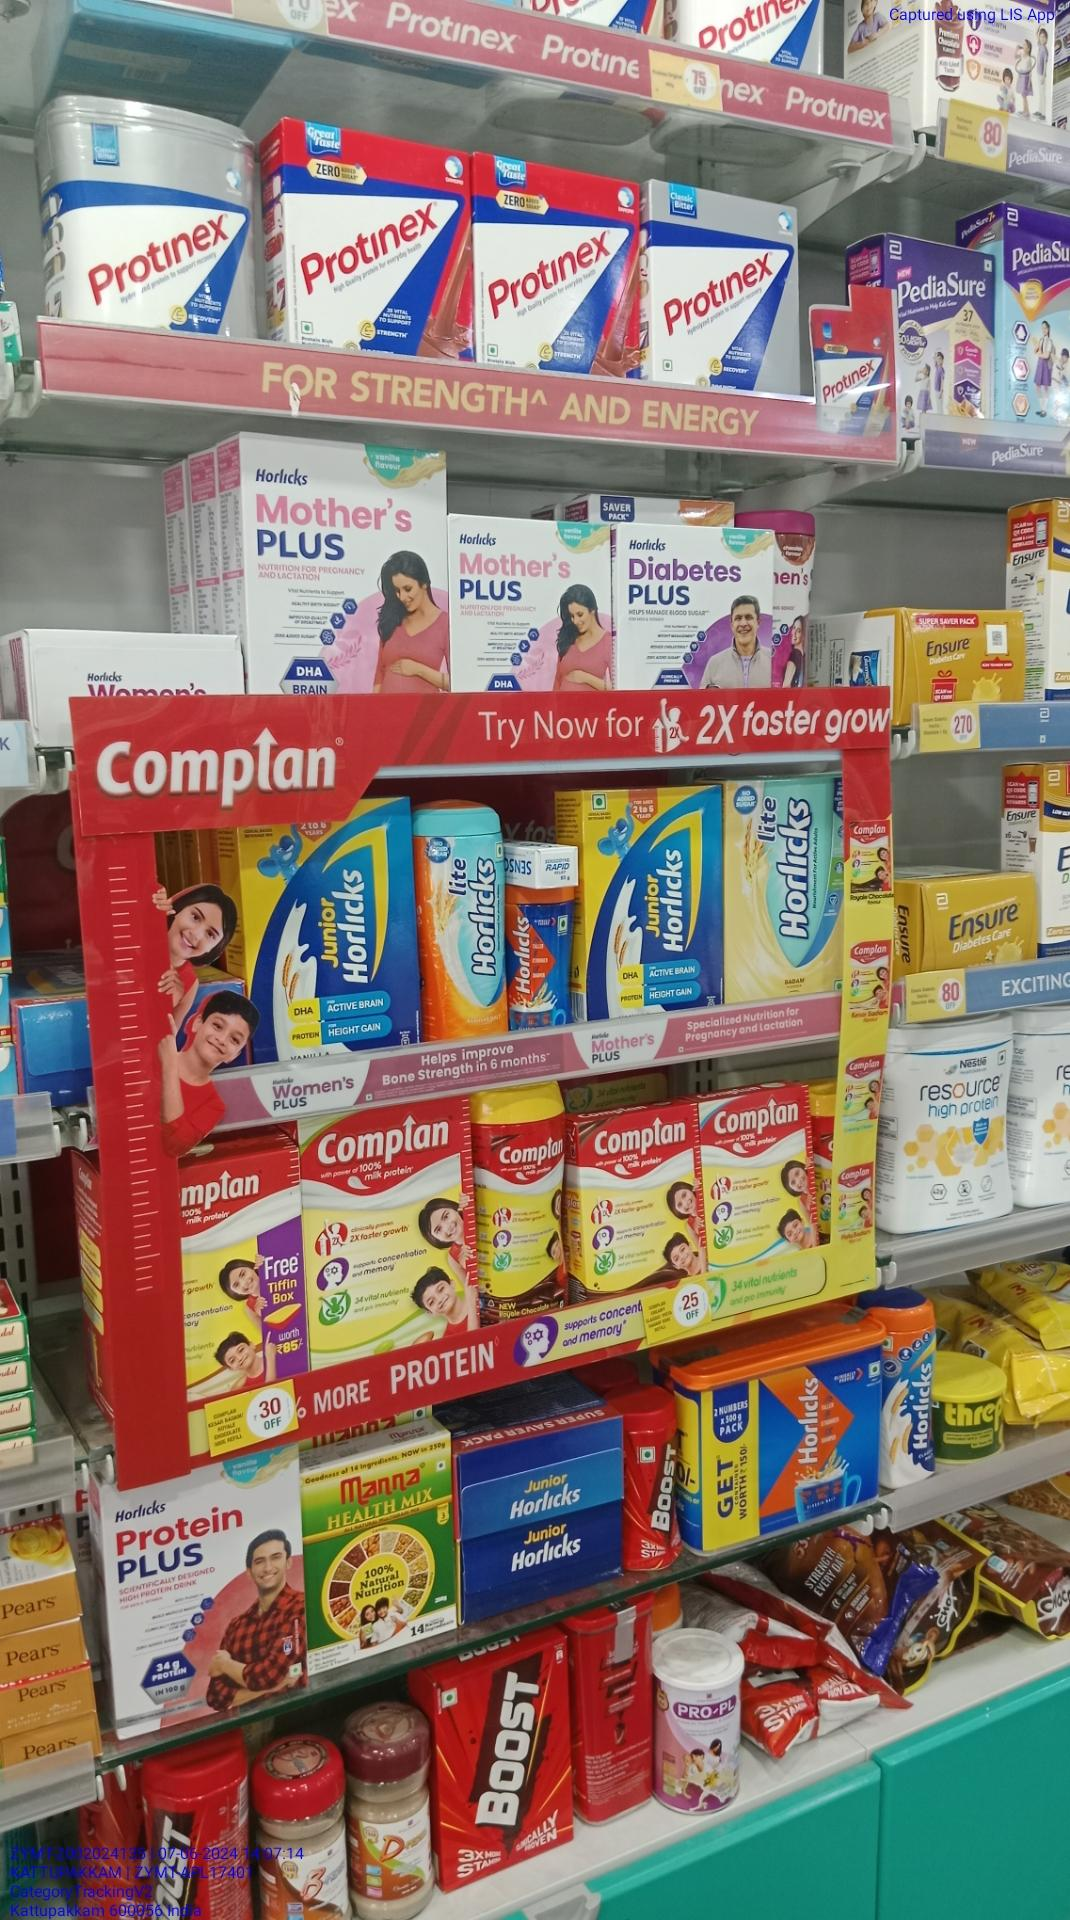COMPLAN_CHOCOLATE_500_GMS_JAR: (476, 1082, 572, 1326)
COMPLAN_CREAMY_CLASSIC_500_G_PACK: (706, 1094, 816, 1268)
COMPLAN_PISTA_BADAM_500_GMS_PACK: (300, 1106, 472, 1365)
HORLICKS_LITE_REGULAR_MALT_500_GM_JAR: (418, 803, 507, 1046)
HORLICK_CHOCOLATE_200_G_JAR: (509, 886, 573, 1033)
HORLICK_CLASSIC_MALT_500_G_JAR: (886, 1297, 941, 1490)
HORLICK_MALT_1_KG_CONTAINER: (700, 1357, 880, 1544)
PROTINEX_ORIGINAL_400_G_JAR: (53, 96, 252, 336)
